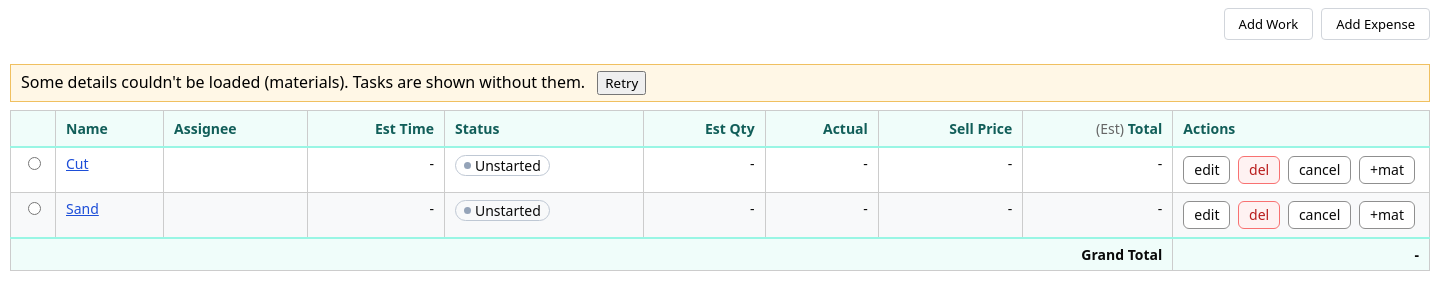
TasksPanel — degraded load notice › the notice offers a Retry that reloads the panel data
Expected: the button "Cut" is shown, [66, 154, 89, 173]
What coordinates should you click on to do the following:
click the button "Retry"
I would click on:
 (622, 83)
Its box is [597, 71, 646, 95].
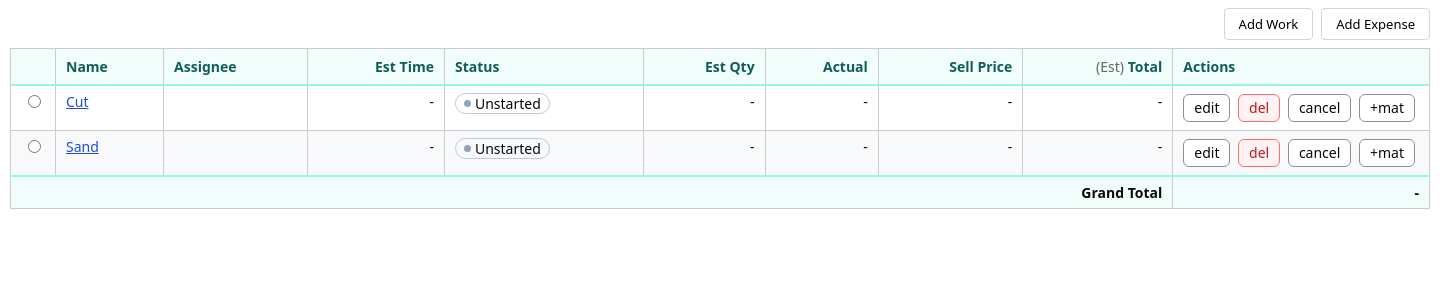
Expected: the message is gone
